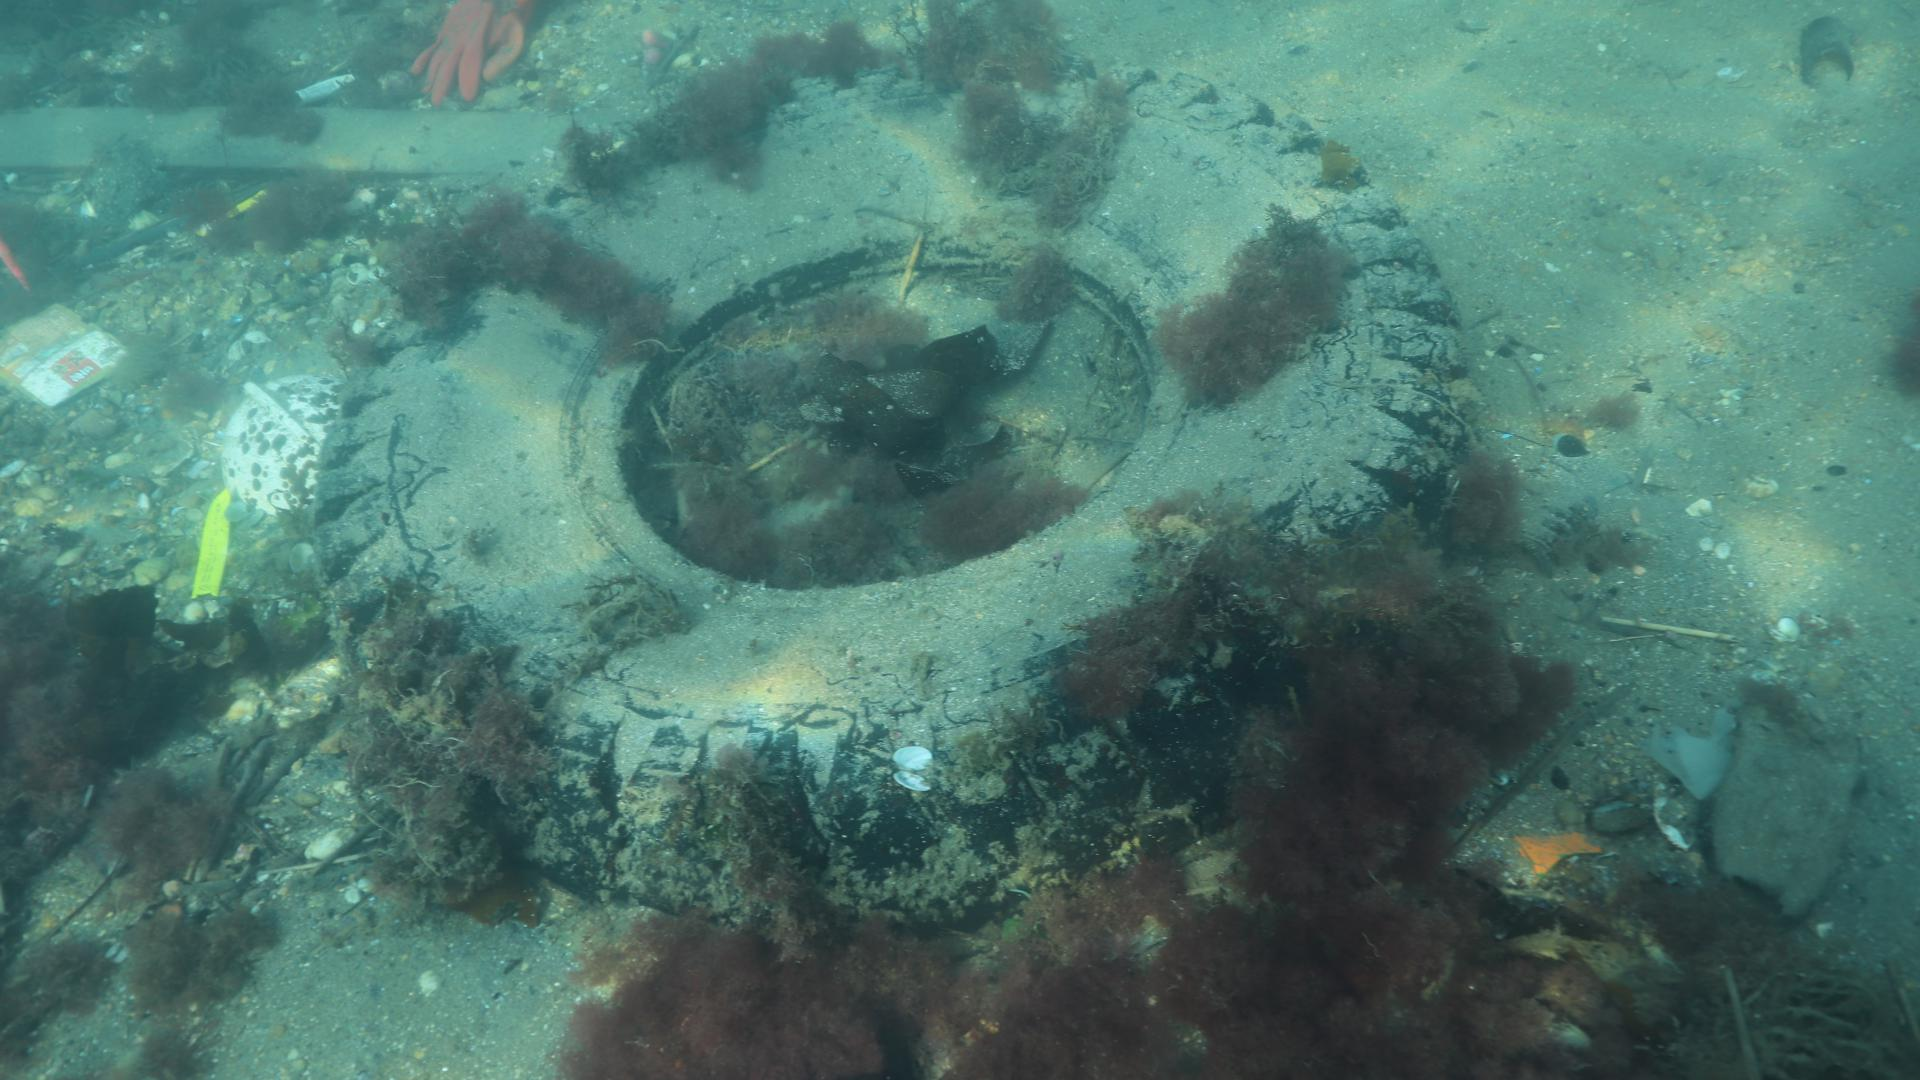tire: (311, 55, 1472, 936)
